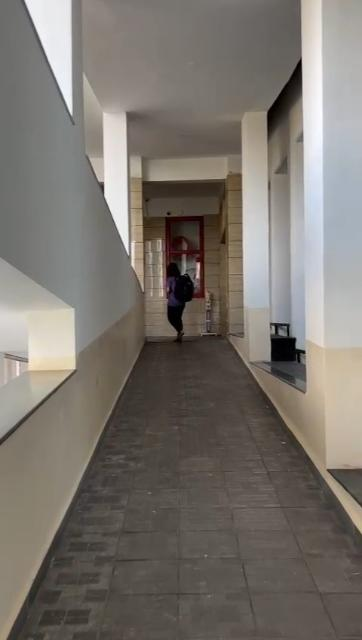floor: (10, 336, 362, 640)
moving-obj: (164, 262, 204, 350)
wall: (0, 0, 149, 640), (306, 0, 362, 466), (106, 112, 162, 336), (240, 112, 270, 366), (204, 213, 219, 290)
